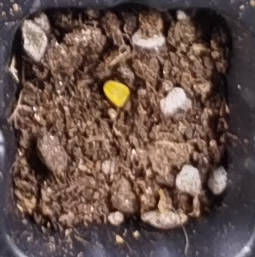pepper seed: (38, 25, 168, 134)
